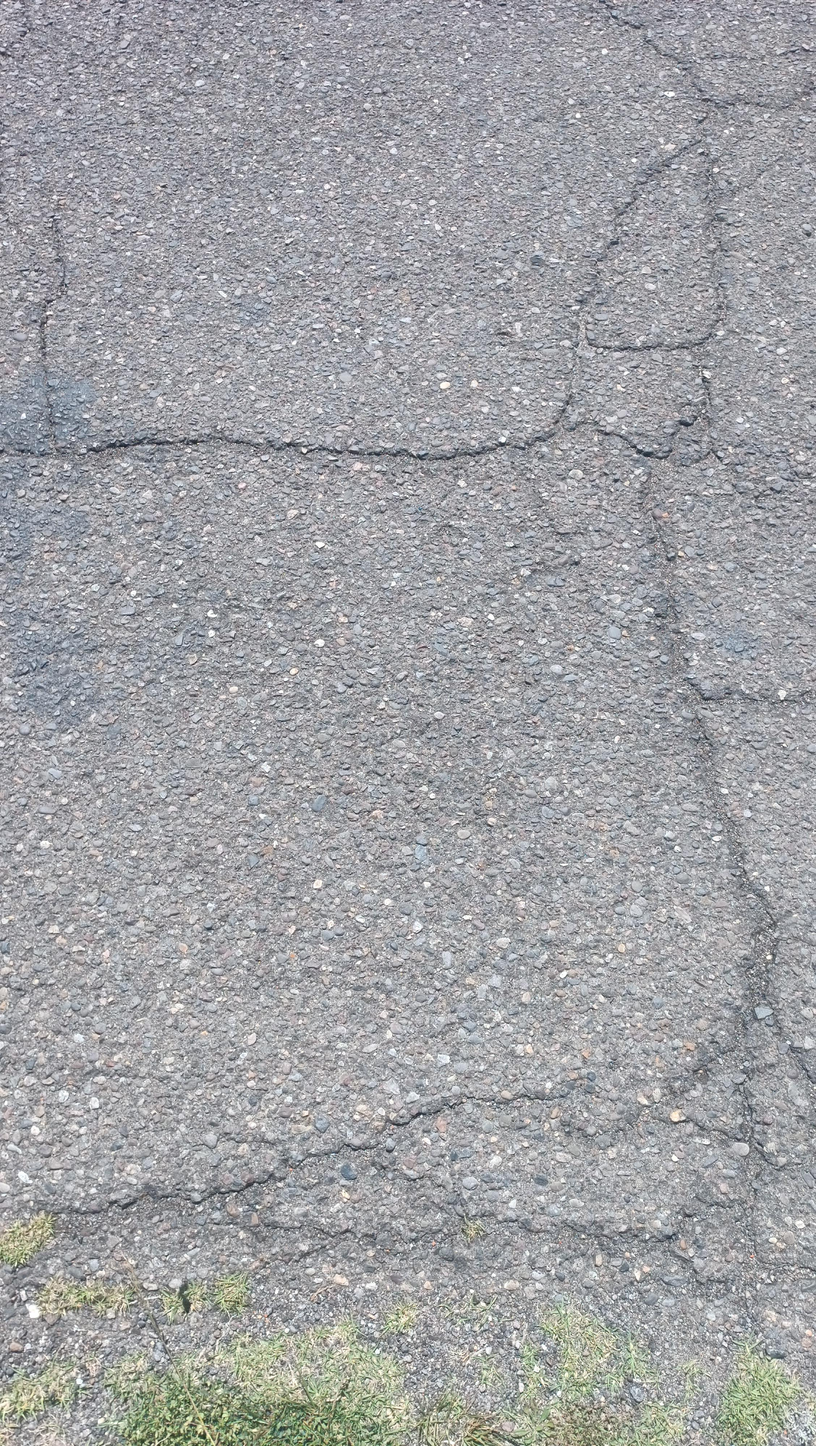GRIETA: (654, 531, 780, 992), (0, 433, 513, 471), (38, 240, 69, 447), (54, 1194, 201, 1236), (599, 0, 675, 67), (708, 690, 816, 708)
PIEL DE COCODRILO: (198, 990, 816, 1332), (516, 41, 816, 543)
